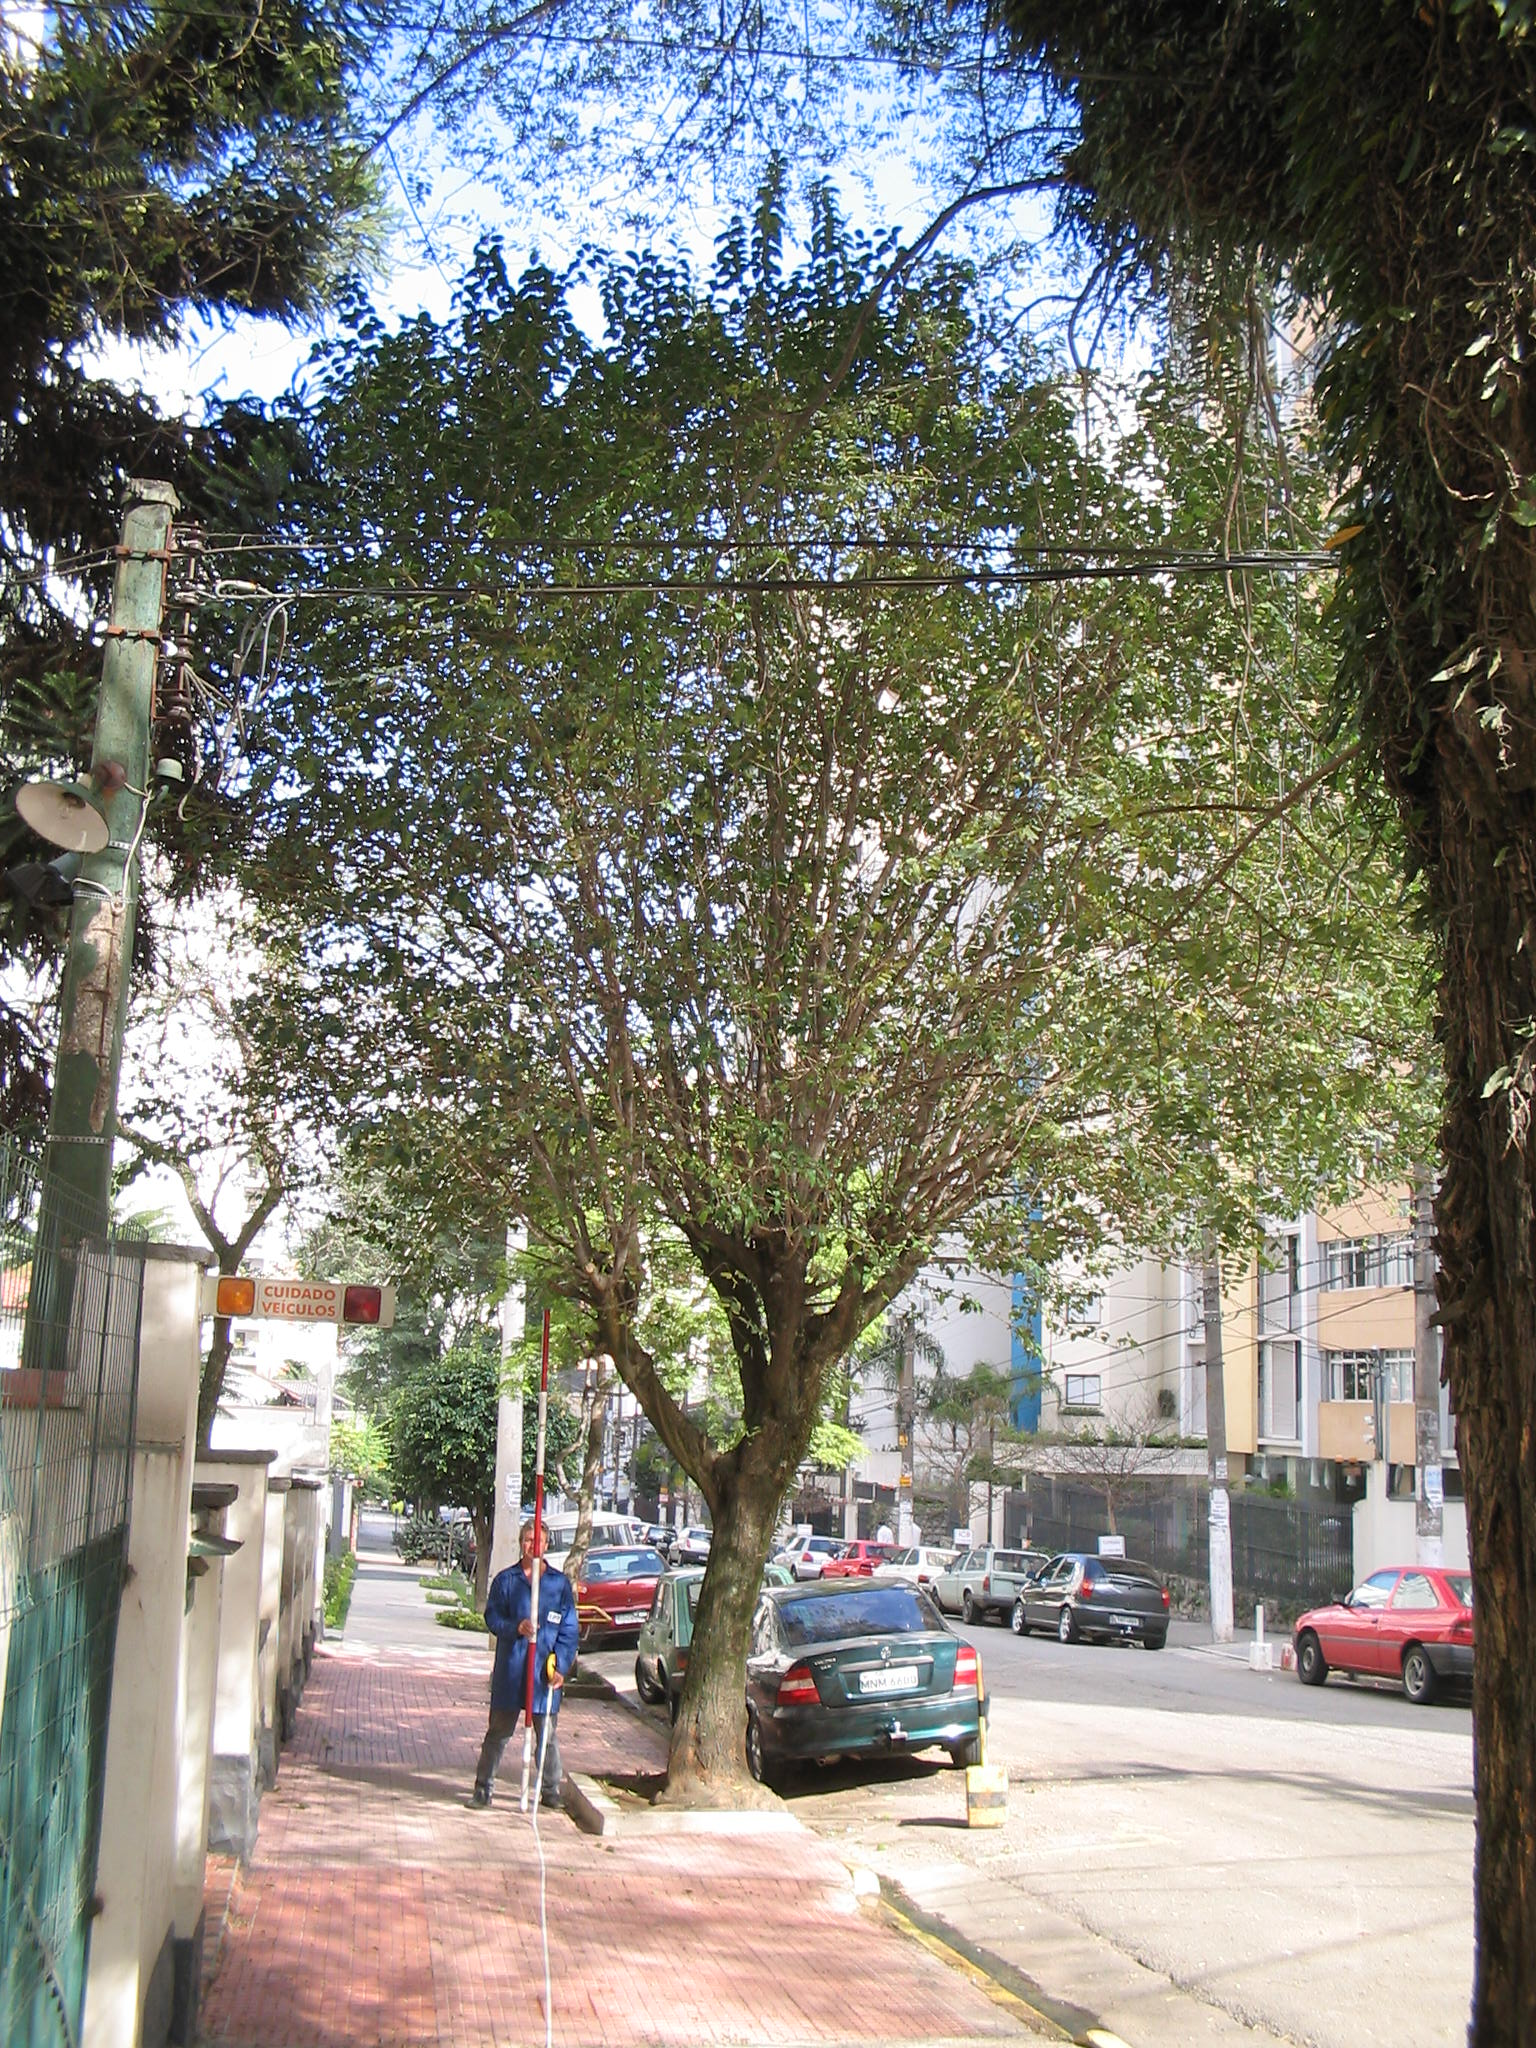crown: (194, 174, 1341, 1347)
stem: (650, 1492, 792, 1804)
stick: (489, 1308, 573, 1816)
tree: (186, 168, 1346, 1816)
